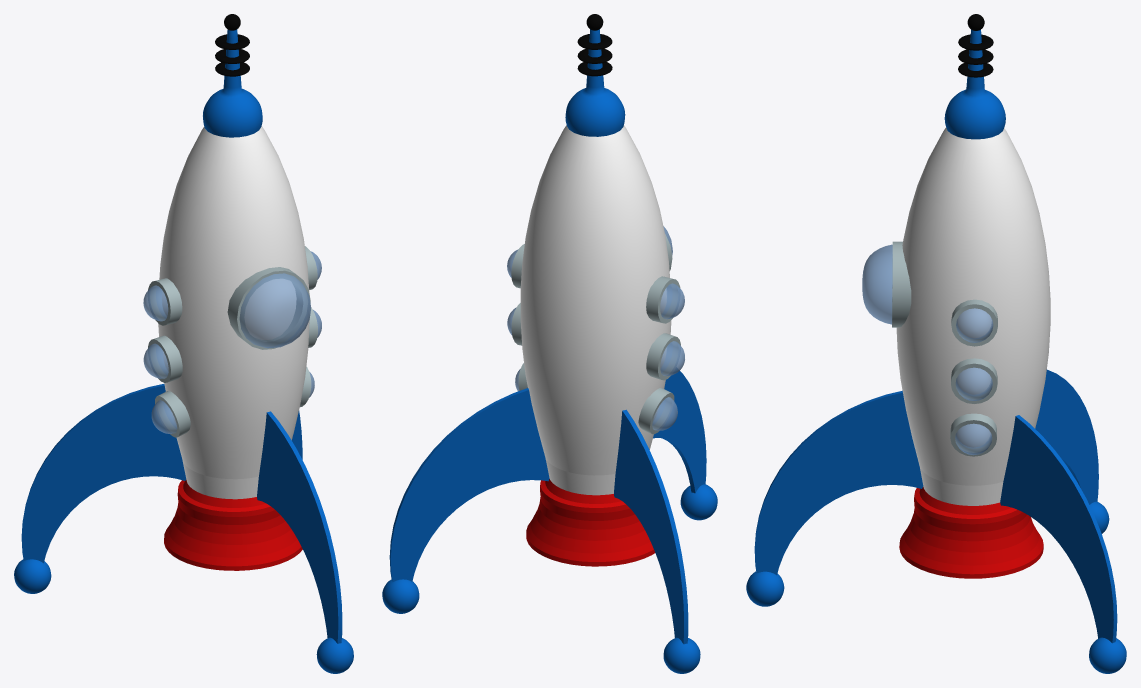
File: rocket2.glb
3 renders of one model, left to right at view 1: azimuth 30°, elevation 25°; view 2: azimuth 150°, elevation 25°; view 3: azimuth 270°, elevation 25°, orthographic.
Visible parts, largest first — view 1: Object_6; view 2: Object_6; view 3: Object_6.
Part boxes in pixels (bbox=[...]): Object_6: bbox=[14, 14, 353, 673]; Object_6: bbox=[382, 14, 717, 673]; Object_6: bbox=[746, 14, 1126, 673].
Size of the model in its own units: 2.36 by 4.31 by 2.5.
